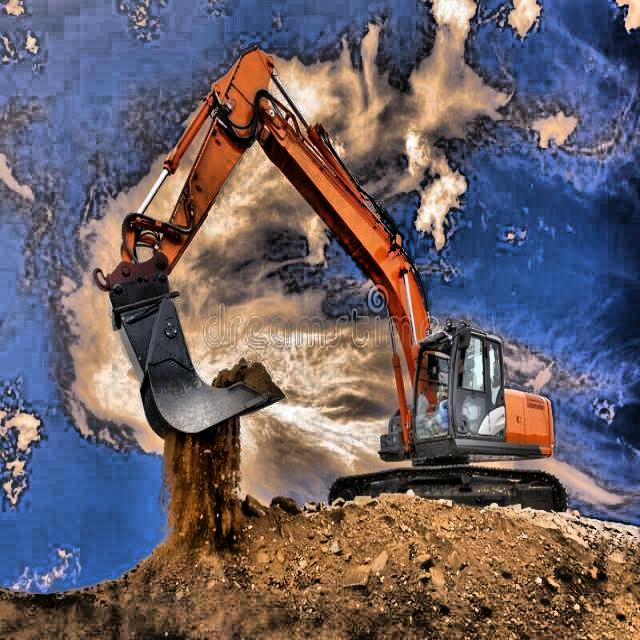excavator: (90, 47, 572, 514)
